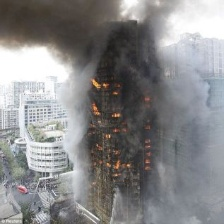fire: (92, 157, 137, 175), (90, 98, 125, 117), (89, 78, 123, 94), (142, 137, 155, 173), (86, 129, 131, 138)
smoke: (2, 1, 213, 64), (155, 72, 223, 212), (57, 71, 88, 210)
